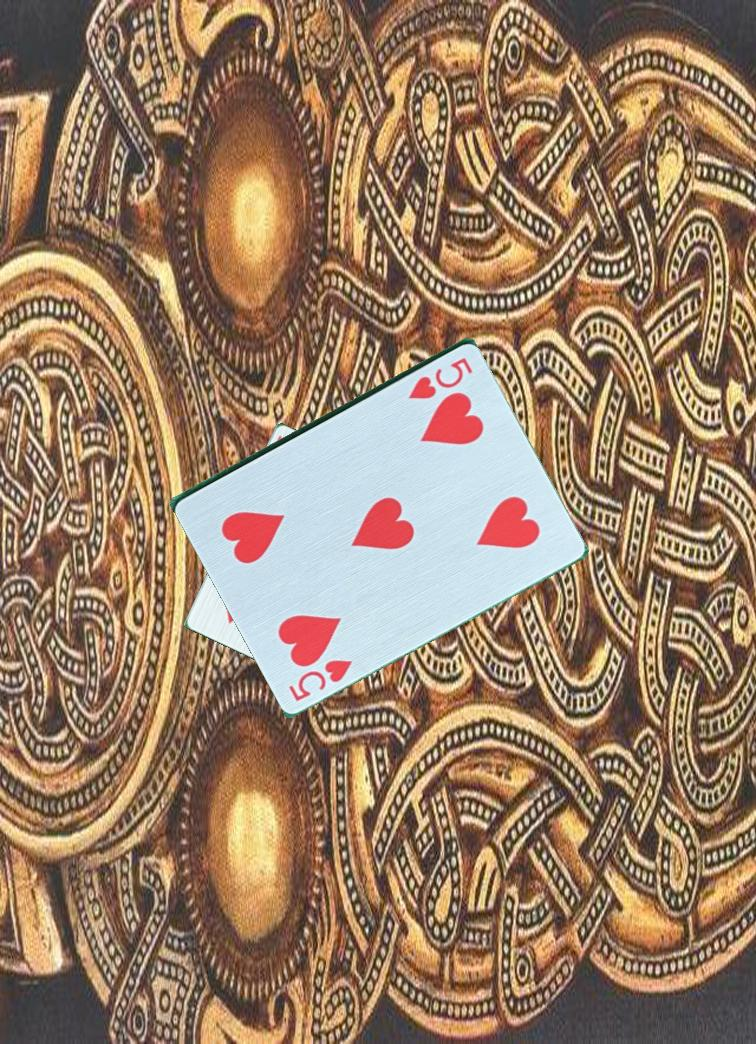5h: (285, 654, 356, 704), (404, 353, 476, 402)
